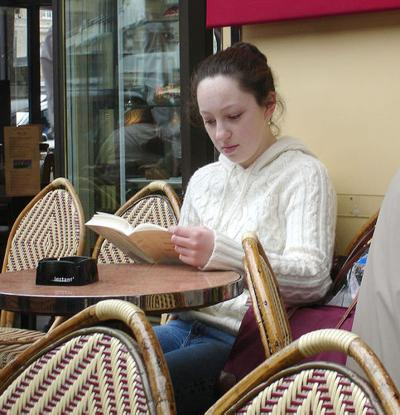person: (151, 43, 339, 415)
